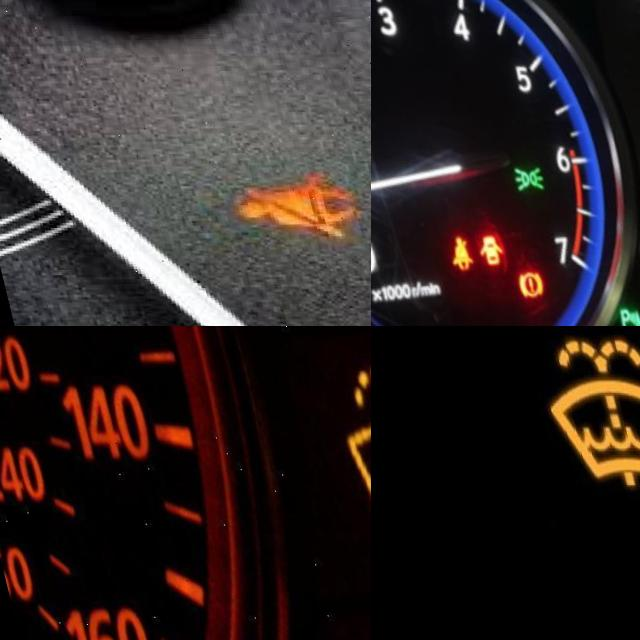Doors: (449, 231, 485, 274)
Seat Belt: (213, 177, 345, 243)
Washer Fluid: (521, 339, 640, 486), (310, 368, 371, 548)
